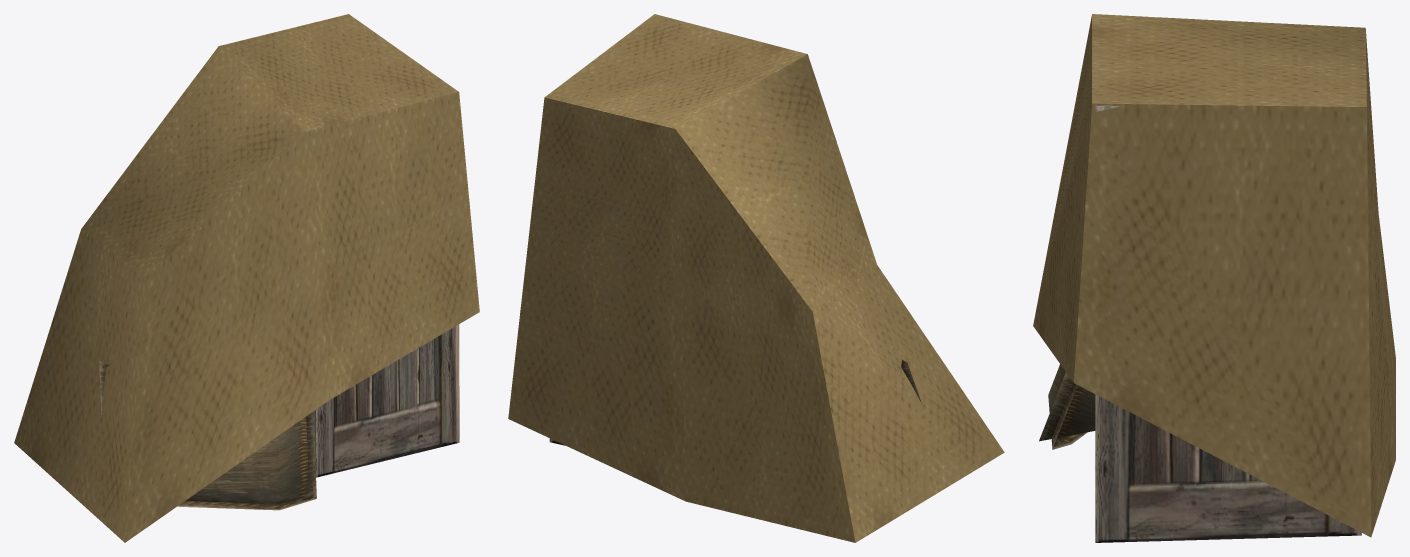
The model's file is crate_group_net.fbx.
The picture shows the model from 3 angles, left to right: view 1: azimuth 30°, elevation 25°; view 2: azimuth 150°, elevation 25°; view 3: azimuth 270°, elevation 25°; orthographic projection. The views are drawn at different scales.
Visible parts, largest first — view 1: net, crate_high, sack_high; view 2: net; view 3: net, crate_high, sack_high.
Part boxes in pixels (x1,y1,x2,y2): net: (14, 14, 479, 542); crate_high: (313, 324, 459, 477); sack_high: (99, 361, 316, 510); net: (508, 14, 1004, 542); net: (1033, 14, 1395, 537); crate_high: (1095, 105, 1361, 542); sack_high: (1039, 364, 1095, 449).
Bounding box in the file's own units: 556 × 520 × 373.
Materials: 2 (2 with a texture image).
